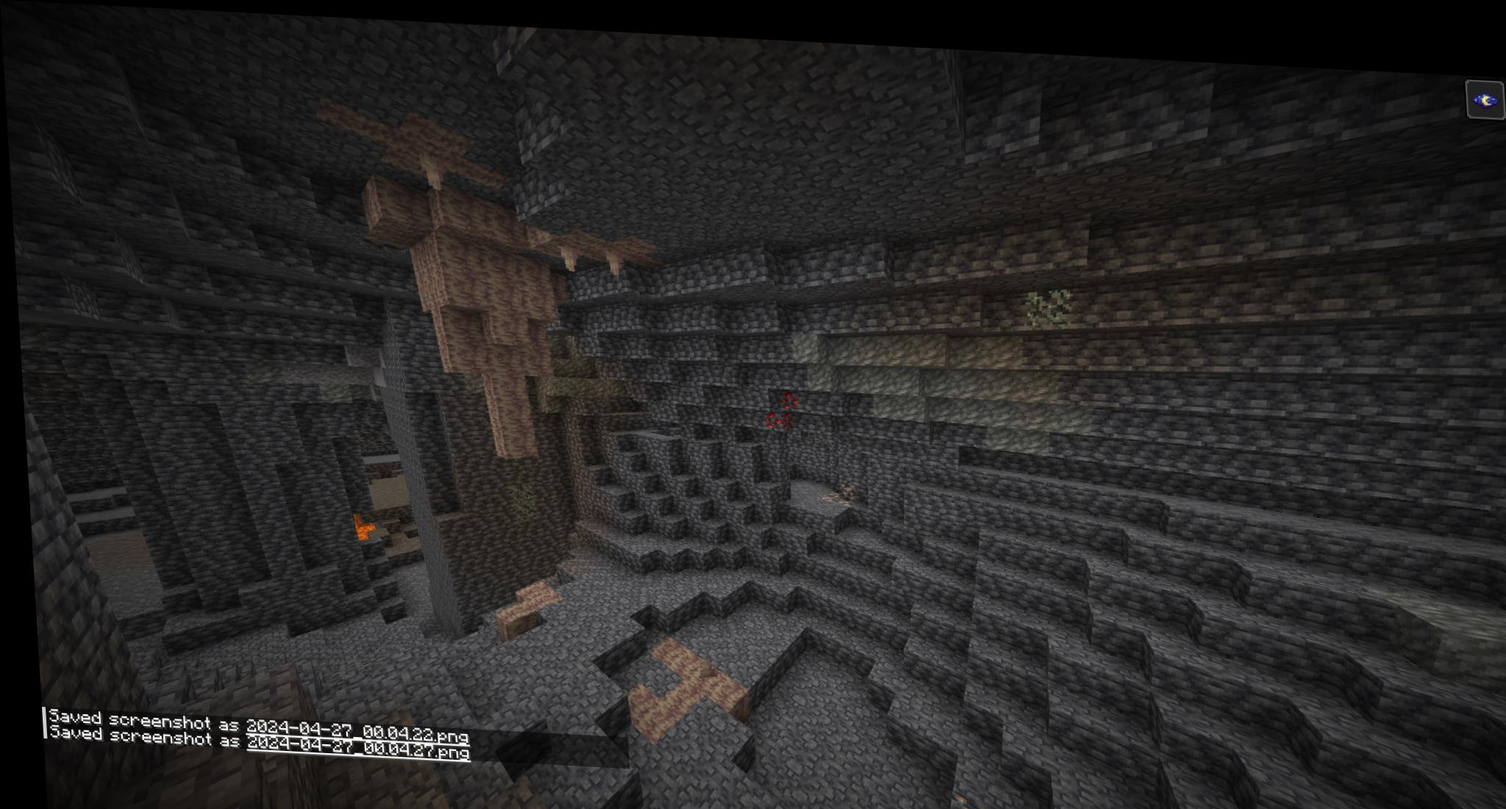iron ore: (936, 782, 1063, 809), (822, 473, 855, 503)
redstone ore: (758, 400, 787, 423), (774, 378, 798, 403)
